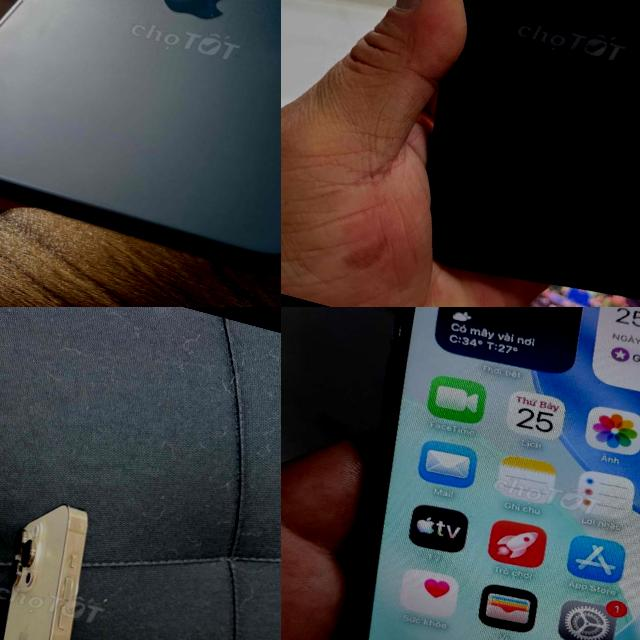gen_11: (281, 307, 640, 640)
gen_12_13: (0, 0, 281, 282)
gen_14: (0, 484, 146, 640)
gen_15: (343, 0, 640, 307)
